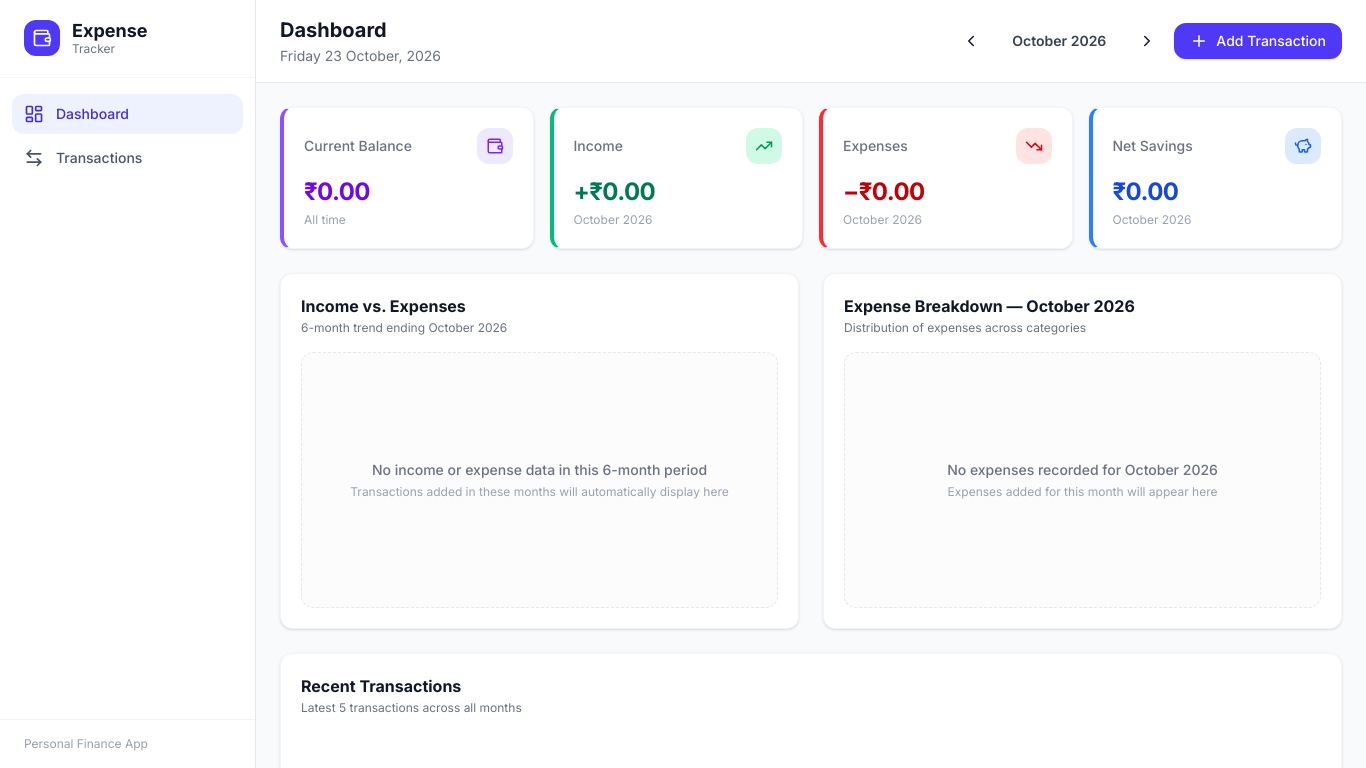
Test: Hooks and Components Integration Tests › resets category when changing type in Add form if category is invalid for new type
Open add dialog
Step 1. Click the button with id "header-add-transaction" → (1258, 41), box left=1174, top=23, right=1342, bottom=59
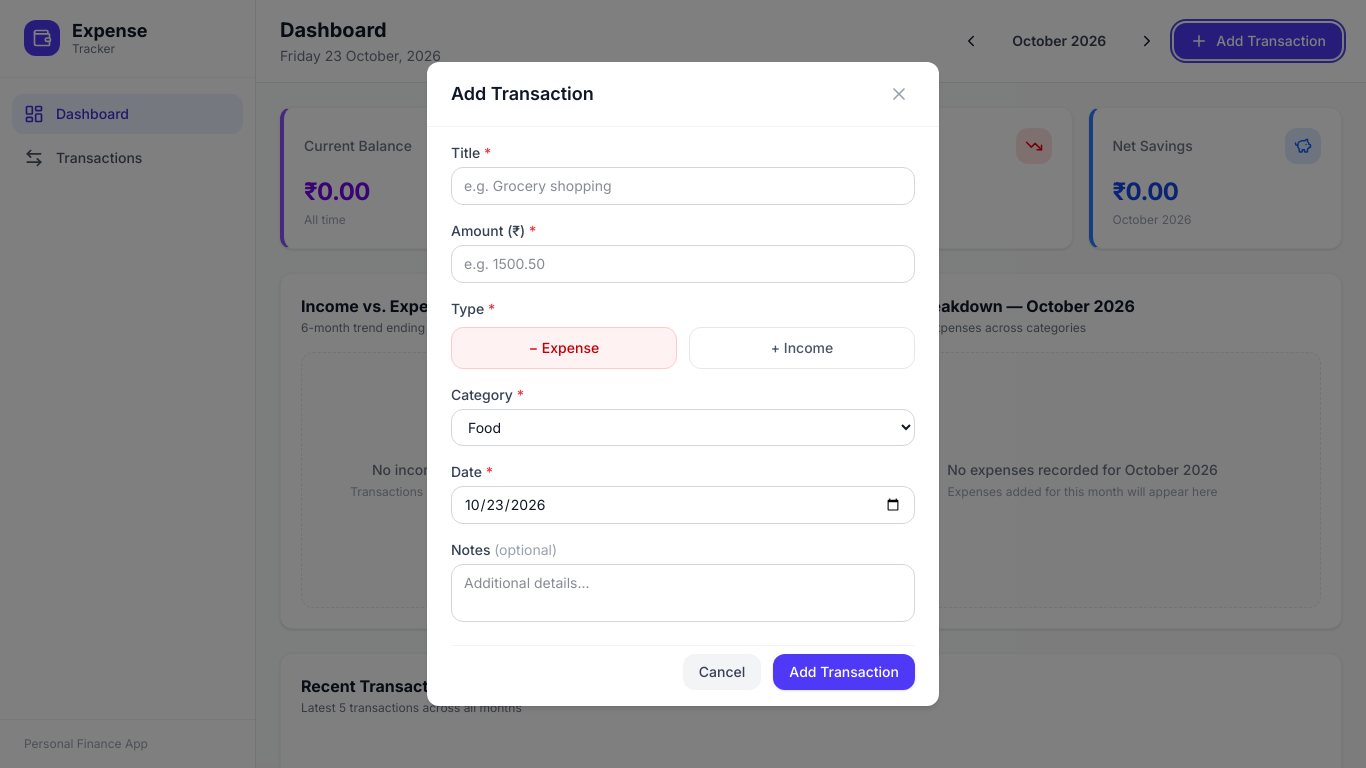
Check: the dropdown labelled "Category *" shows "Food", box left=451, top=409, right=915, bottom=446
Switch type to Income
Step 2. Click the radio button labelled "+ Income" → (802, 348), box left=689, top=327, right=915, bottom=369
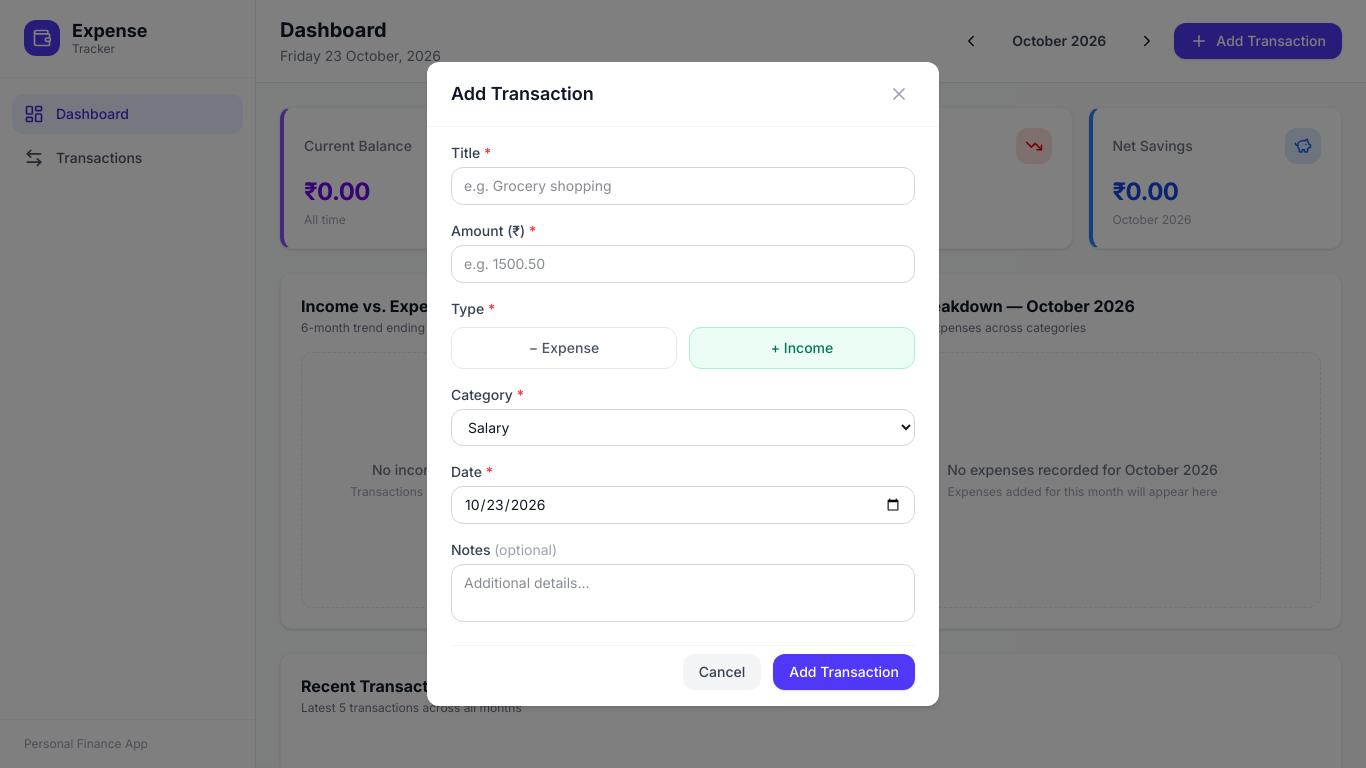
Check: the dropdown labelled "Category *" shows "Salary", box left=451, top=409, right=915, bottom=446
